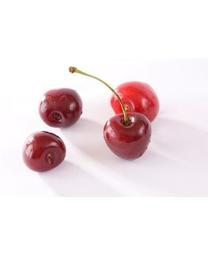cherry: (111, 80, 161, 125), (104, 113, 152, 159), (23, 132, 66, 173), (39, 88, 82, 128)
